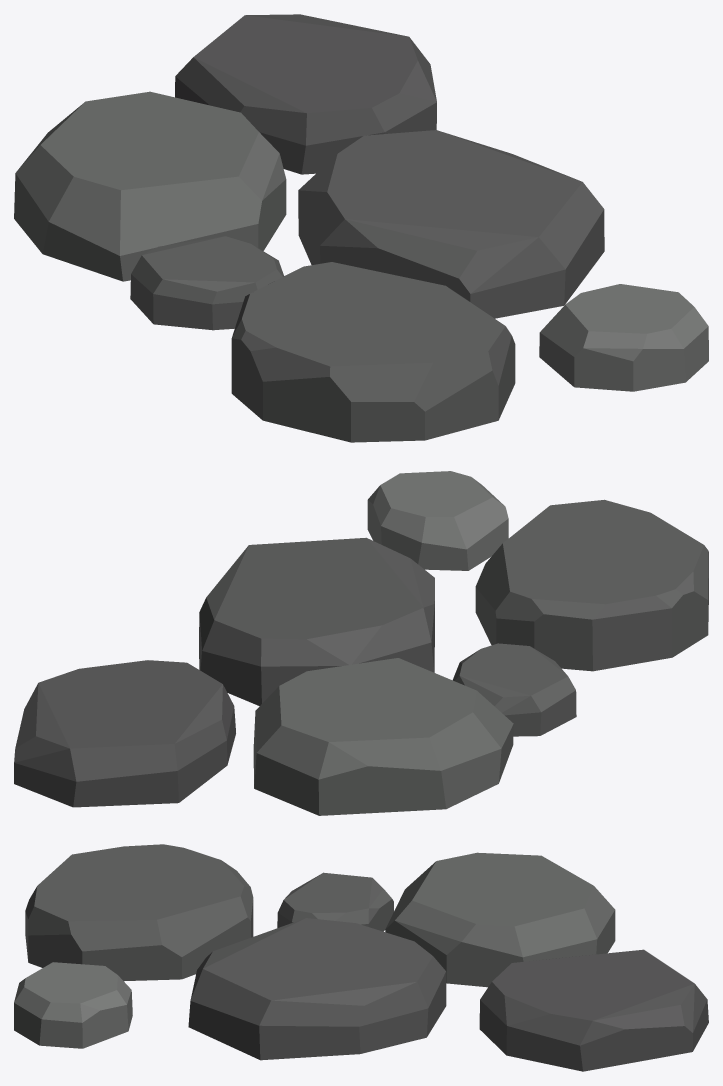
The model's file is SideWalk 1.fbx.
3 renders of one model, top to bottom at view 1: azimuth 30°, elevation 25°; view 2: azimuth 150°, elevation 25°; view 3: azimuth 270°, elevation 25°, orthographic. The views are drawn at different scales.
Visible parts, largest first — view 1: SideWalk 1; view 2: SideWalk 1; view 3: SideWalk 1.
Boxes of the visible parts, x1,y1,x2,y2 form: SideWalk 1: [14, 14, 708, 442]; SideWalk 1: [14, 471, 708, 815]; SideWalk 1: [14, 844, 708, 1071].
Bounding box in the file's own units: 199 × 30.03 × 331.
